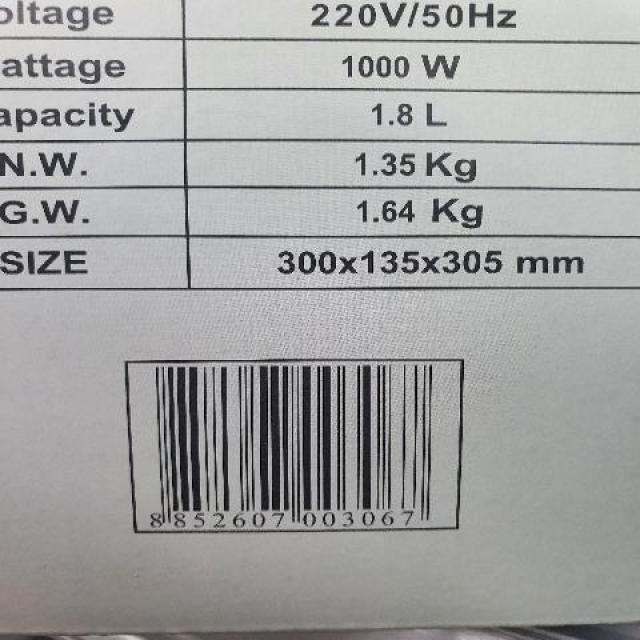Barcode: (138, 363, 458, 526)
